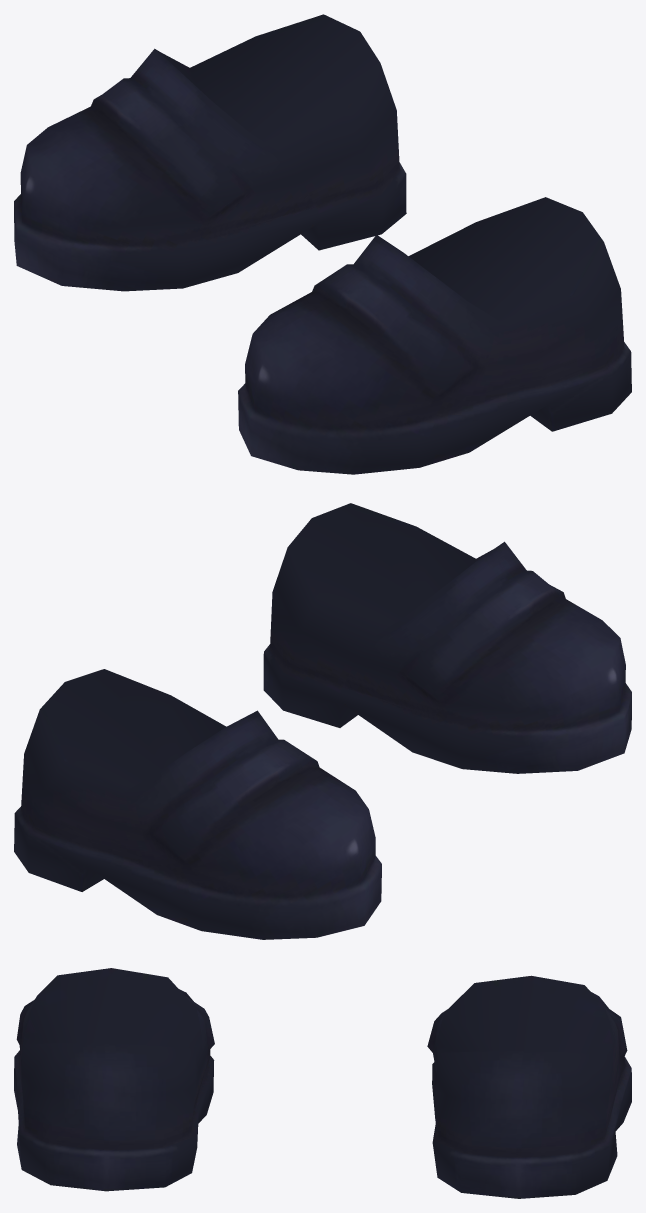
The model's file is shoes_clogs_blue.gltf.
The picture shows the model from 3 angles, top to bottom: view 1: azimuth 30°, elevation 25°; view 2: azimuth 150°, elevation 25°; view 3: azimuth 270°, elevation 25°; orthographic projection. The views are drawn at different scales.
Parts seen in each view (by area): view 1: MiiladyShoes; view 2: MiiladyShoes; view 3: MiiladyShoes.
Boxes of the visible parts, left/top/right/bottom form: MiiladyShoes: left=14, top=14, right=631, bottom=474; MiiladyShoes: left=14, top=503, right=631, bottom=939; MiiladyShoes: left=14, top=968, right=631, bottom=1198.
Size of the model in its own units: 0.1899 by 0.0803 by 0.3158.
Materials: 2 (2 with a texture image).
